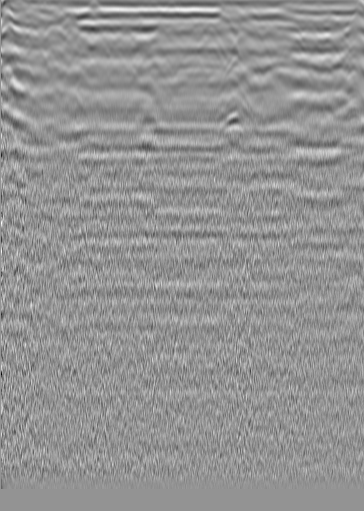가스: (213, 113, 247, 144)
상수: (318, 15, 338, 35)
오수: (19, 9, 39, 29)
우수: (159, 20, 179, 40)
